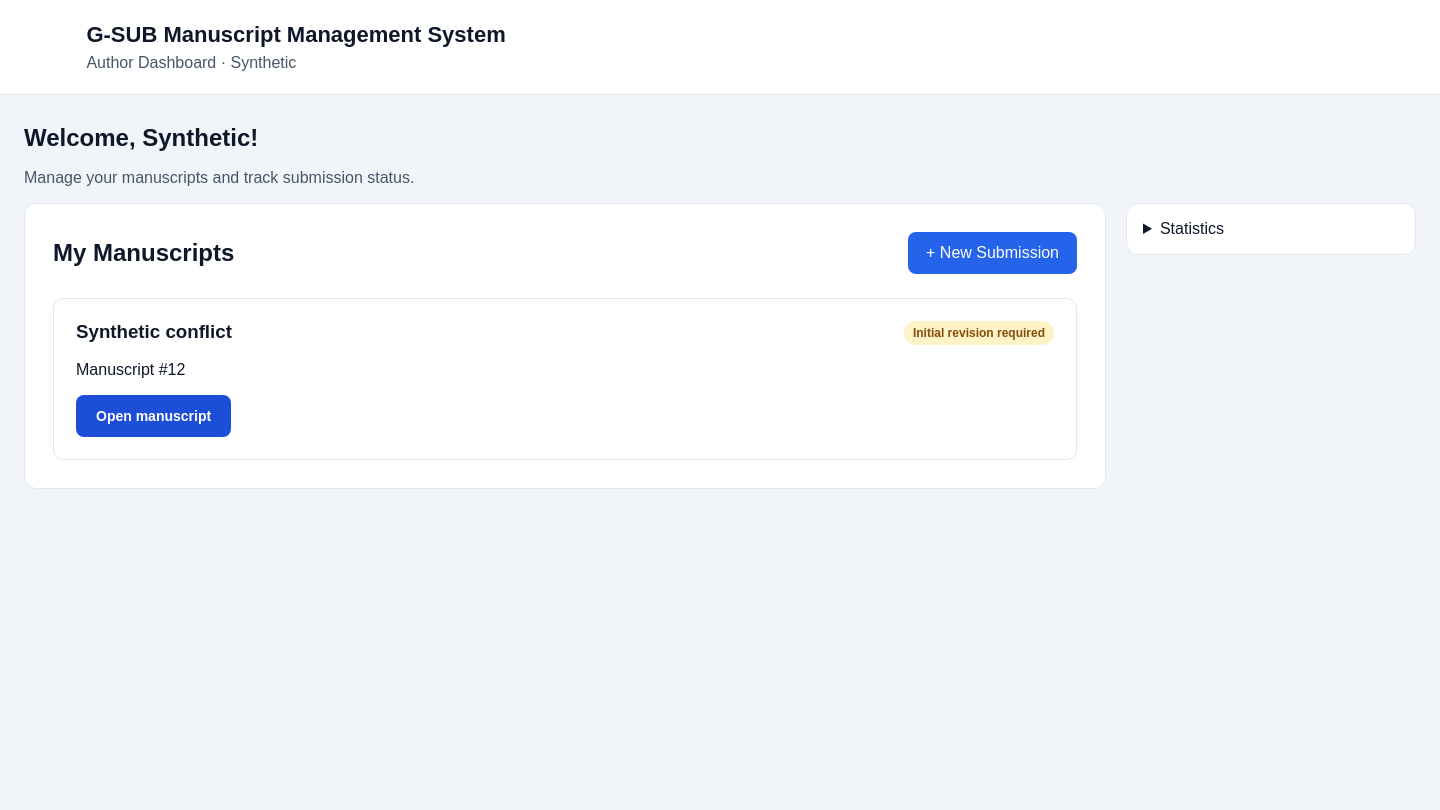
Test case: rejects artificial conflicting selections before initial_revision_required workflow requests
Click the button "Open manuscript".
click(154, 416)  # box [76,395,231,437]
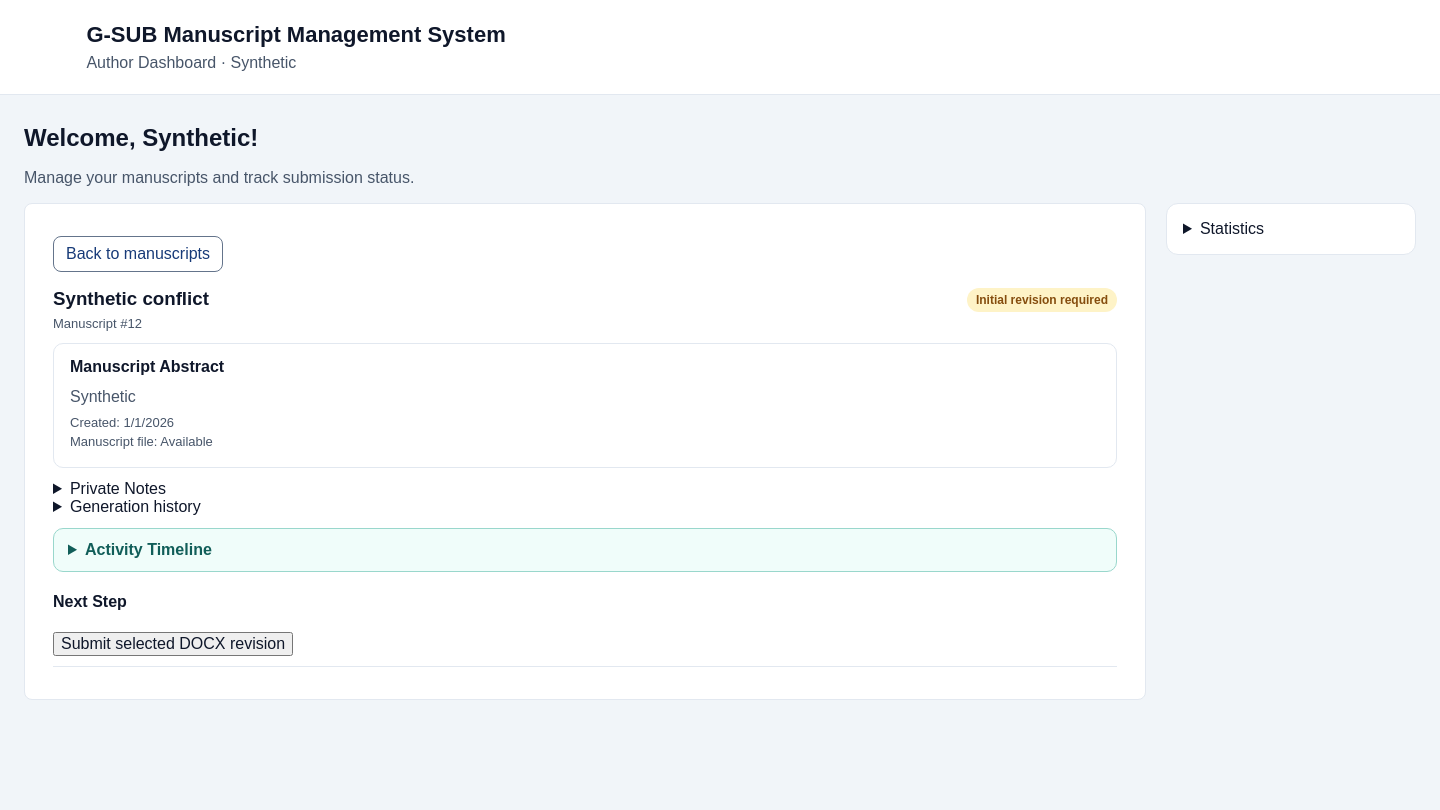
Click the button "Submit selected DOCX revision".
click(173, 644)  # box [53,632,293,656]
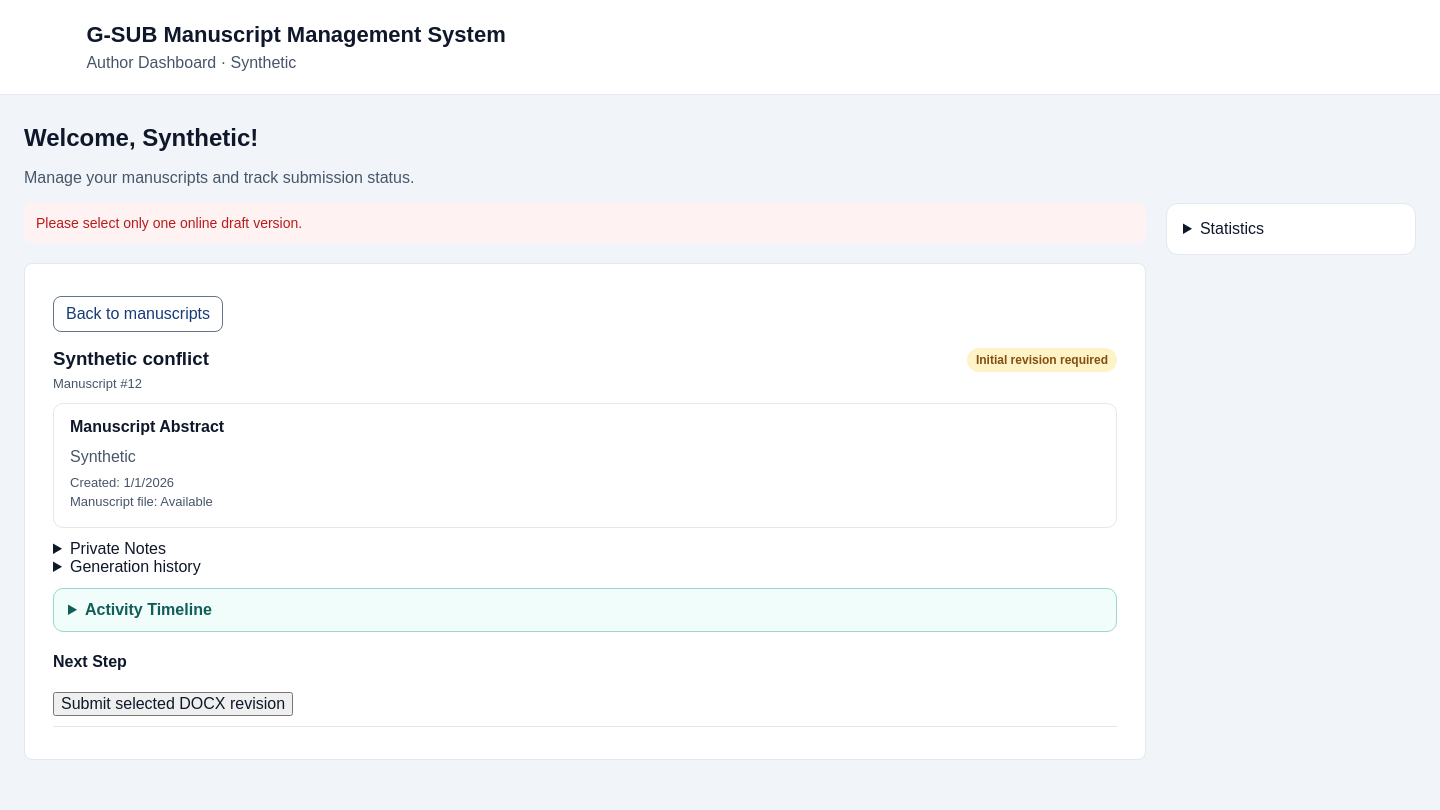
Now the text "Please select only one online draft version." is shown, box [24,203,1146,243]
